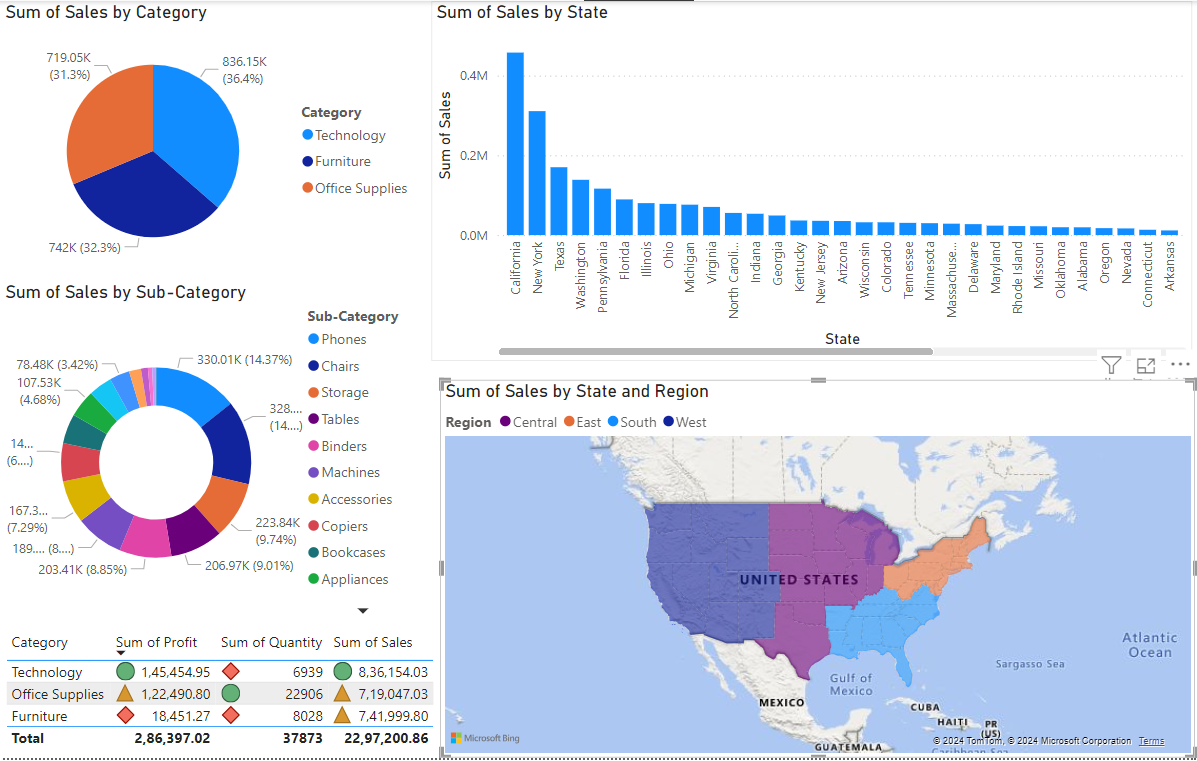

The page's visual inventory and layout, read from the dashboard file:
{"tool":"powerbi","page":{"name":"Page 1","canvas":[1280,720],"ordinal":0},"visuals":[{"type":"columnChart","fields":{"Y":["Sum(Orders.Sales)"],"Category":["Orders.State"]},"box":[410,0,723.8,342.5],"z":0},{"type":"pieChart","fields":{"Category":["Orders.Category"],"Y":["Sum(Orders.Sales)"]},"box":[0,0,401.2,266.2],"z":1000},{"type":"donutChart","fields":{"Y":["Sum(Orders.Sales)"],"Category":["Orders.Sub-Category"]},"box":[0,266.2,401.2,326.2],"z":2000},{"type":"filledMap","fields":{"Category":["Orders.State"],"Series":["Orders.Region"]},"box":[418.8,360,718.8,360],"z":3000},{"type":"tableEx","fields":{"Values":["Orders.Category","Sum(Orders.Profit)","Sum(Orders.Quantity)","Sum(Orders.Sales)"]},"box":[0,592.5,418.8,127.5],"z":4000}]}

Visuals, with their boxes on the page's 1280x720 design canvas (x1, y1, x2, y2). These are canvas units, not pixel positions in the 1197x761 screenshot, which may show the page scaled, cropped or inside an application window:
columnChart - Sum(Orders.Sales) x Orders.State: (left=410, top=0, right=1134, bottom=342)
pieChart - Orders.Category x Sum(Orders.Sales): (left=0, top=0, right=401, bottom=266)
donutChart - Sum(Orders.Sales) x Orders.Sub-Category: (left=0, top=266, right=401, bottom=592)
filledMap - Orders.State x Orders.Region: (left=419, top=360, right=1138, bottom=720)
tableEx - Orders.Category x Sum(Orders.Profit): (left=0, top=592, right=419, bottom=720)
